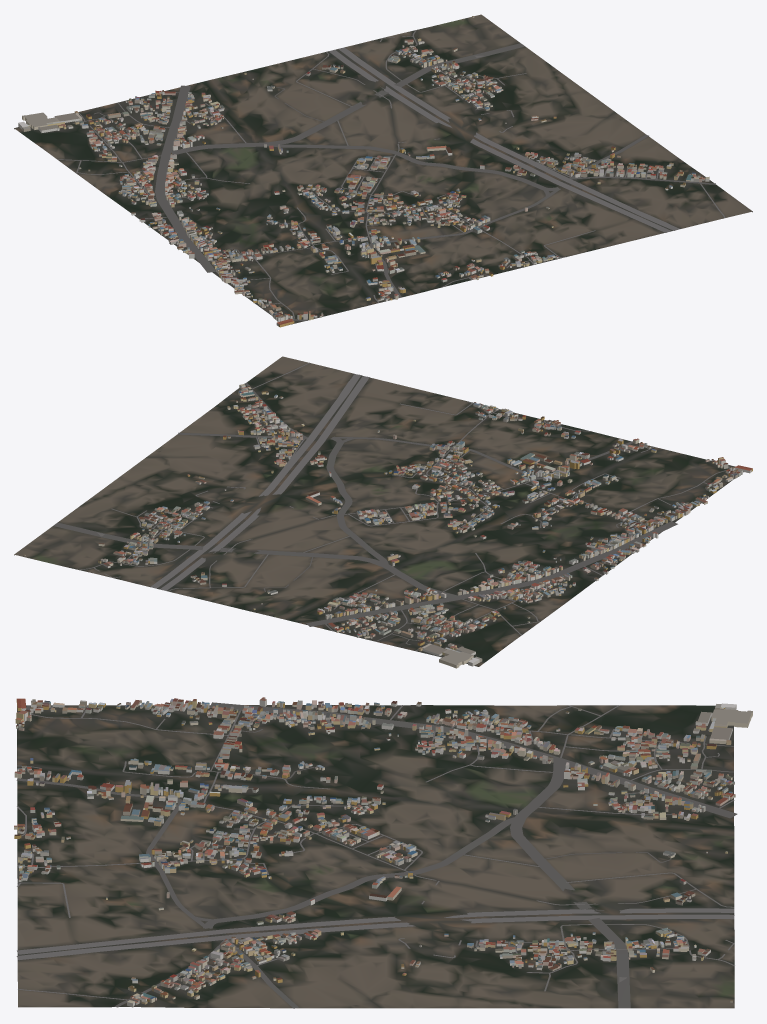
3 views of the same model, one above another, from view 1: azimuth 30°, elevation 25°; view 2: azimuth 150°, elevation 25°; view 3: azimuth 270°, elevation 25° (orthographic). The views are drawn at different scales.
Visible parts, largest first — view 1: ground, buildings, roads; view 2: ground, buildings, roads; view 3: ground, buildings, roads.
Boxes of the visible parts, bbox=[...] form: ground: bbox=[14, 14, 752, 324]; buildings: bbox=[18, 16, 709, 327]; roads: bbox=[57, 30, 725, 320]; ground: bbox=[14, 356, 743, 666]; buildings: bbox=[23, 384, 752, 668]; roads: bbox=[53, 363, 743, 651]; ground: bbox=[17, 705, 734, 1008]; buildings: bbox=[14, 697, 752, 1007]; roads: bbox=[16, 702, 737, 1008].
Size of the model in its own units: 1417 by 24.98 by 1445.
